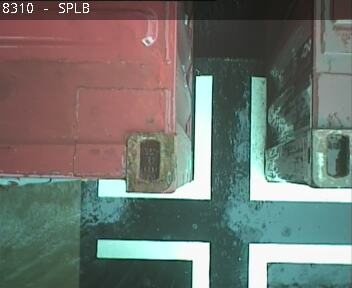groundmarker_1: (98, 76, 352, 201), (97, 239, 352, 288)
